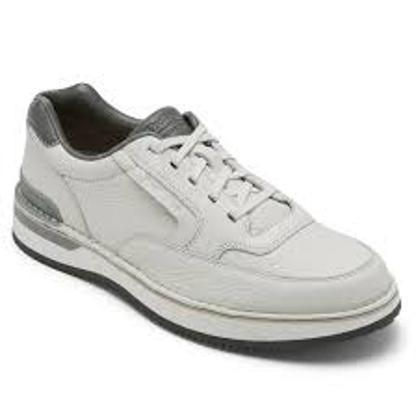not trash: (9, 78, 403, 360)
